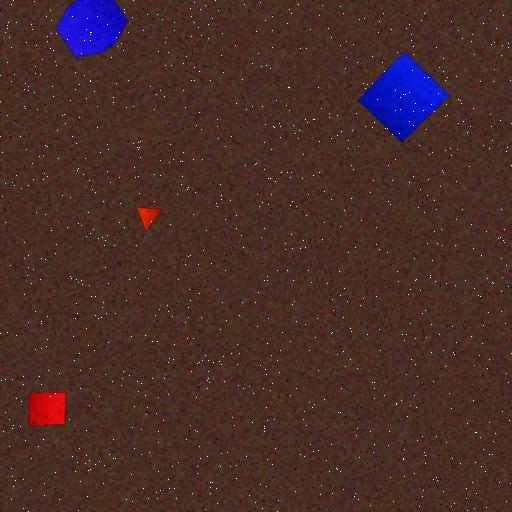BLUE_SQUARE: (358, 51, 450, 143)
RED_SQUARE: (28, 391, 67, 427)
